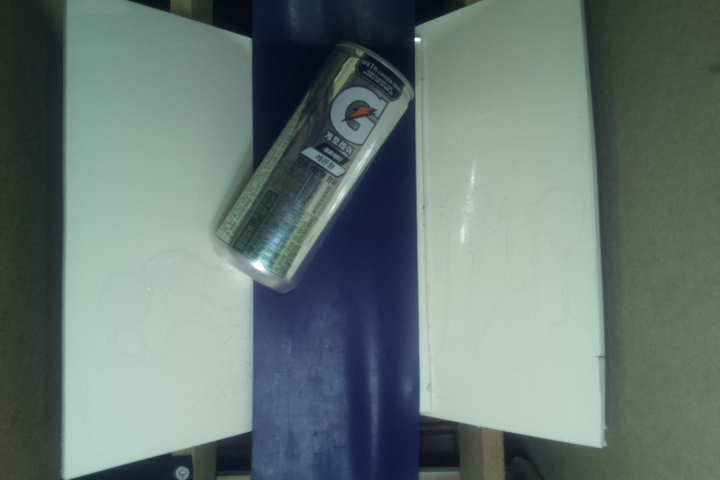can: (210, 39, 423, 296)
